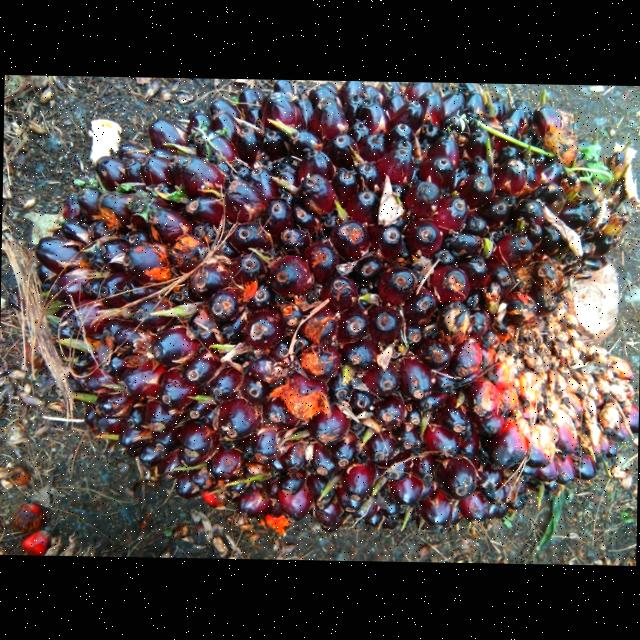Unripe: (35, 80, 638, 529)
